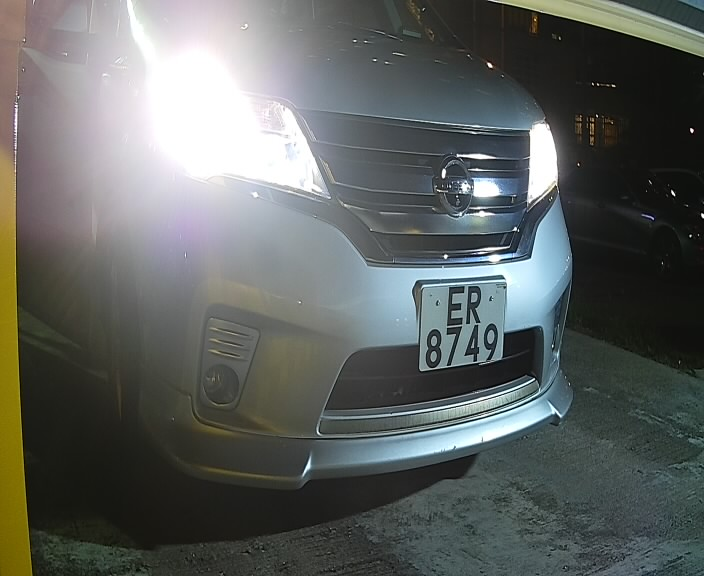Car: (37, 2, 604, 515)
License Plate: (402, 268, 514, 381)
